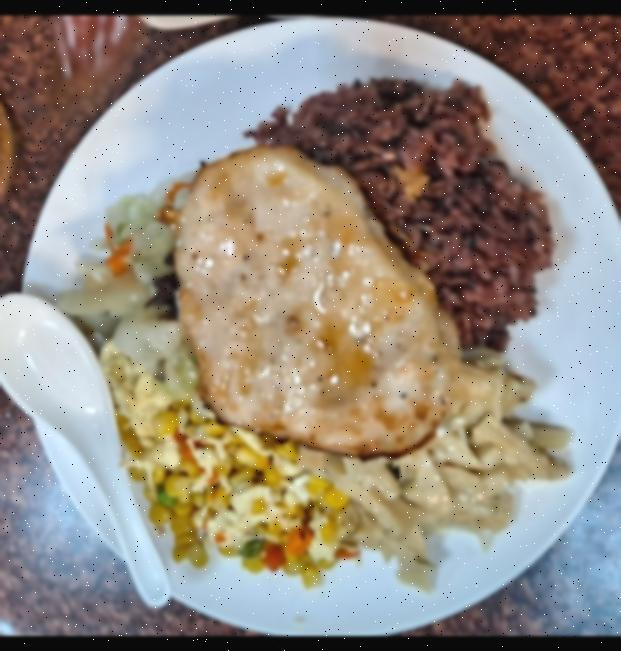big fried chicken leg: (9, 15, 621, 630)
braised fish: (245, 76, 553, 358)
braised fish fillet: (335, 352, 575, 588), (118, 394, 359, 576), (49, 192, 188, 388)
braised pork: (171, 144, 455, 460)
